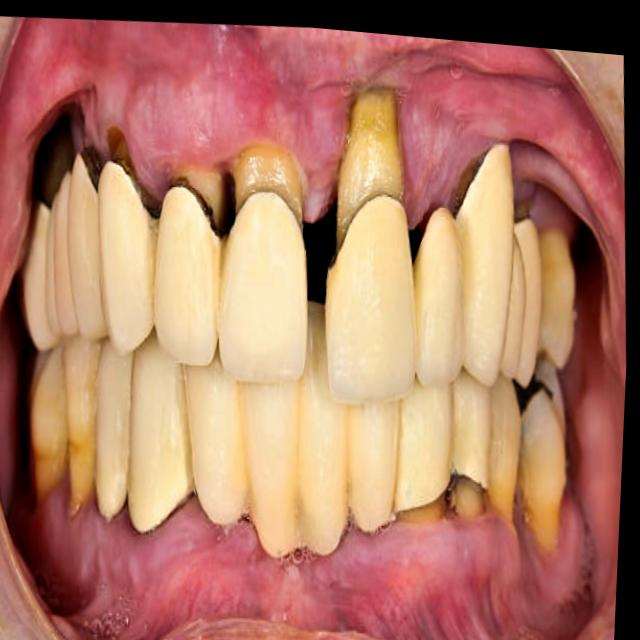calculus: (338, 90, 403, 246), (233, 142, 305, 230), (174, 166, 228, 234), (36, 115, 74, 208), (113, 146, 159, 216), (524, 483, 563, 550), (31, 438, 66, 499), (542, 230, 572, 288), (70, 444, 93, 511), (456, 155, 483, 212), (488, 473, 516, 520), (450, 478, 484, 516), (287, 492, 309, 546), (81, 146, 107, 190), (398, 495, 444, 519), (147, 208, 159, 284), (516, 205, 530, 221)
